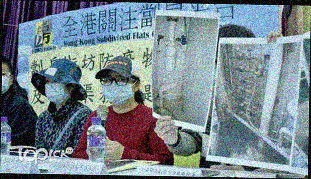with_mask: (103, 72, 135, 106), (45, 75, 70, 105), (2, 67, 12, 98)
